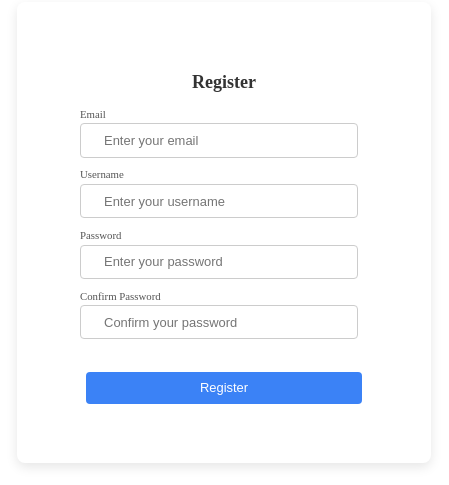
Scenario: Register Button Component › displays "Registering..." and is disabled when loading
The image size is (449, 485).
In the field named "Email address": (219, 140) [80,123,358,158], type "test@example.com"
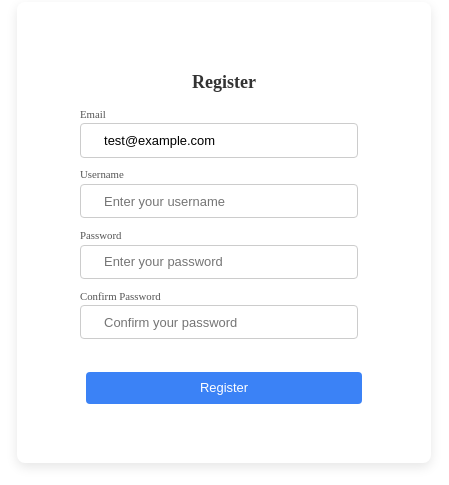
In the field labelled "username": (219, 201) [80,184,358,218], type "testuser"
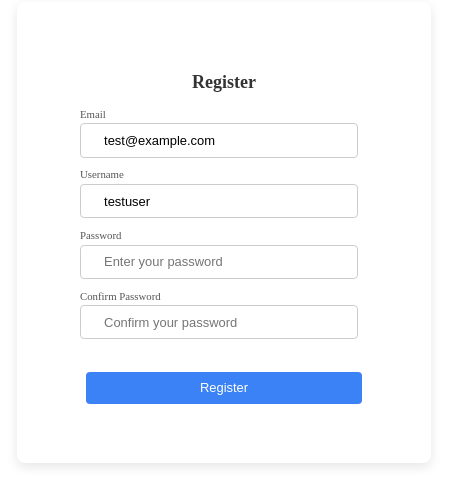
In the password field labelled "password": (219, 262) [80,245,358,279], type "password123"
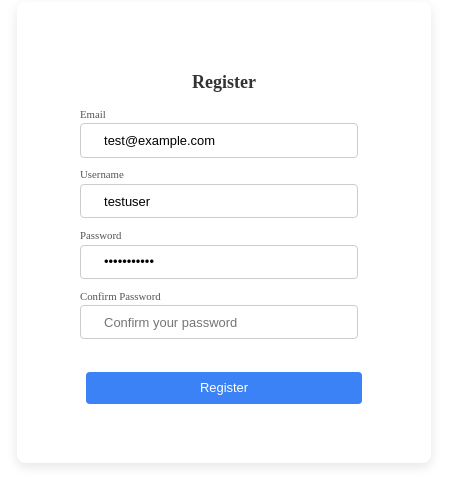
In the password field named "Confirm password": (219, 322) [80,305,358,340], type "password123"
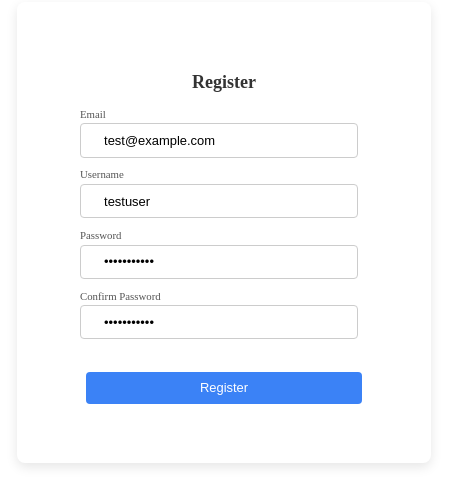
Click the button with aria-label "Register now": click(224, 388) [86,372,362,404]
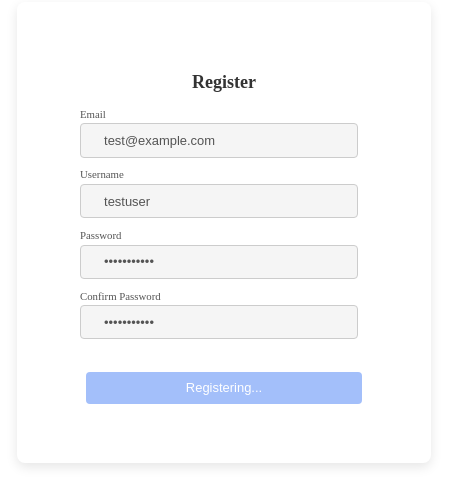
Expected: the button with aria-label "Register now" reads "Registering...", [86,372,362,404]
Expected: the button with aria-label "Register now" is disabled, [86,372,362,404]
